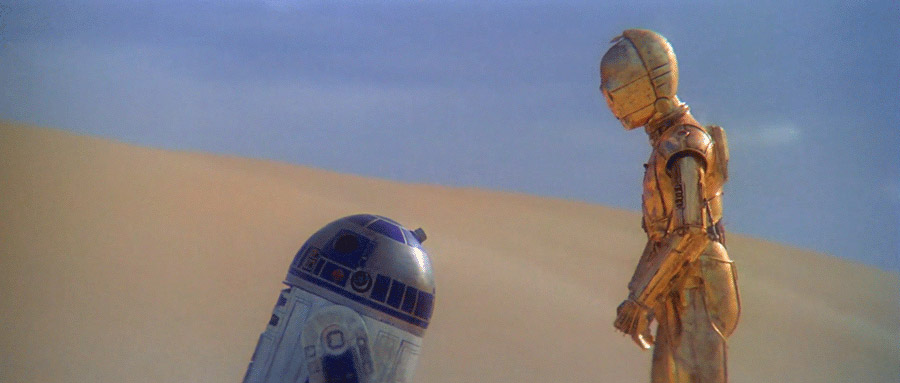r2d2: (240, 212, 436, 382)
